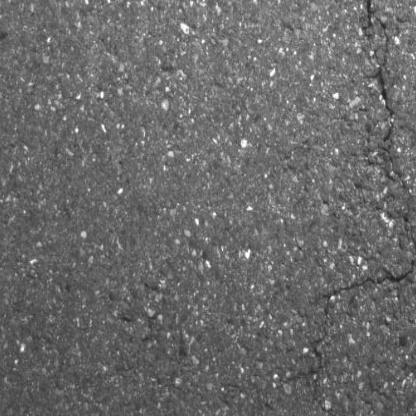Cracks: (277, 238, 416, 391), (362, 0, 410, 190)
